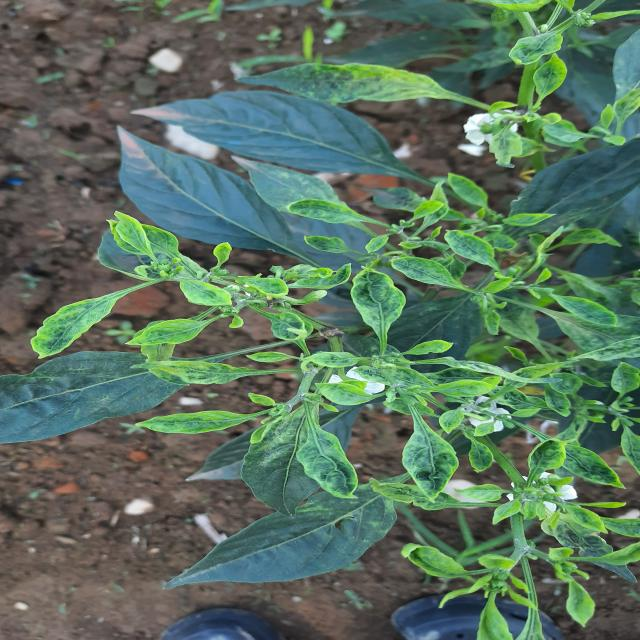thrips: (385, 419, 475, 504), (21, 296, 128, 358), (294, 416, 370, 503), (336, 262, 418, 331), (136, 406, 264, 444), (550, 442, 632, 492), (129, 356, 259, 386), (117, 317, 216, 354), (276, 197, 374, 233), (381, 255, 467, 291)
